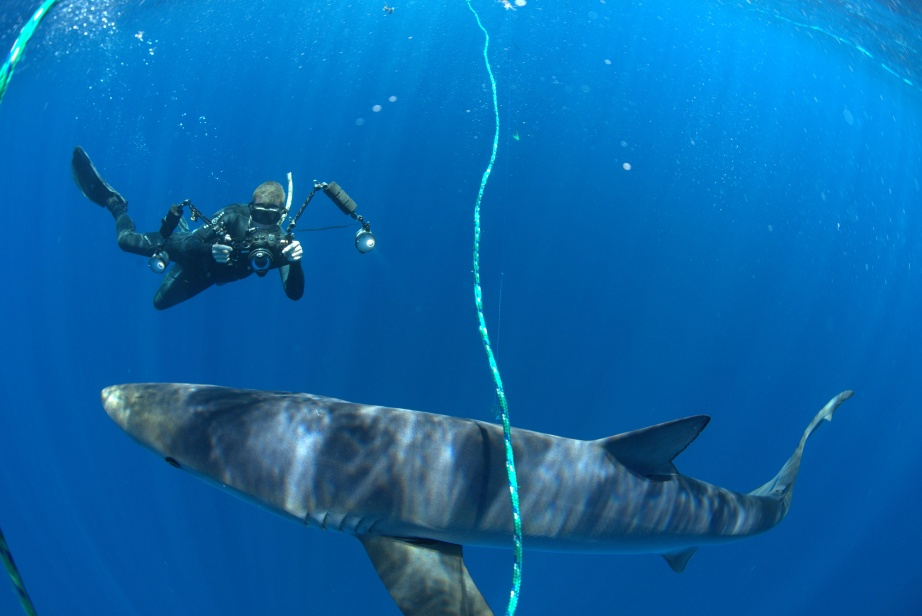Azul: (84, 344, 882, 616)
